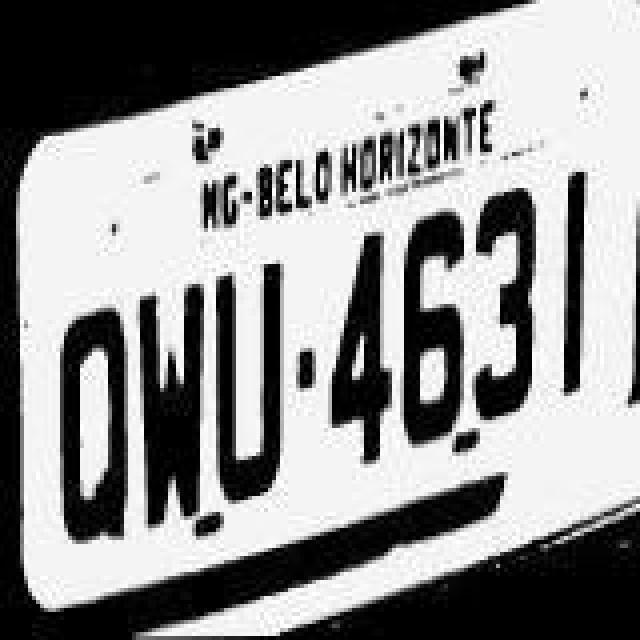1: (546, 154, 606, 426)
3: (464, 182, 544, 446)
4: (328, 214, 400, 498)
6: (392, 200, 472, 476)
Q: (56, 286, 136, 574)
U: (208, 246, 288, 534)
W: (134, 260, 210, 552)
